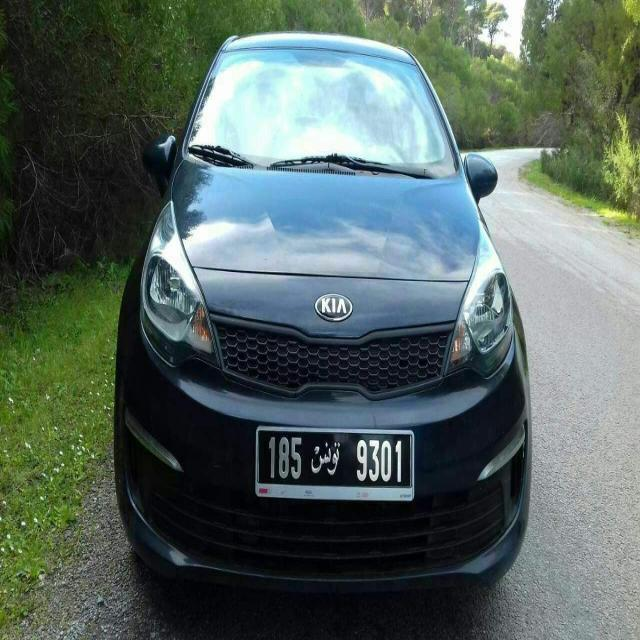LP: (255, 425, 412, 493)
